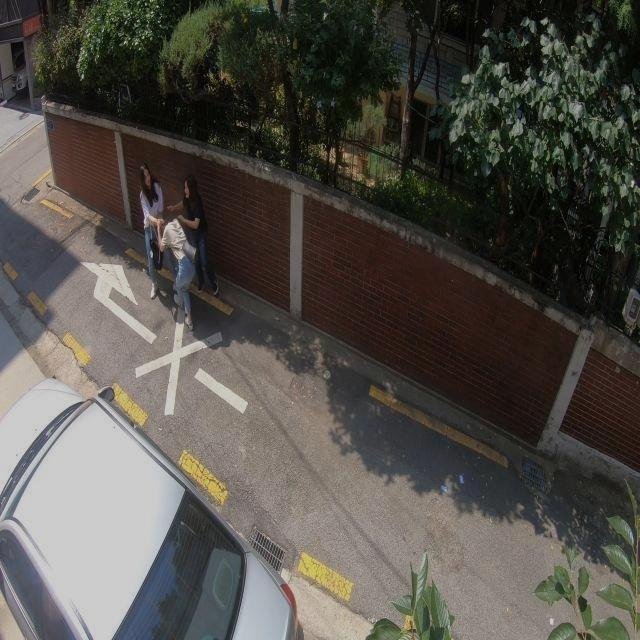fight: (135, 159, 216, 327)
